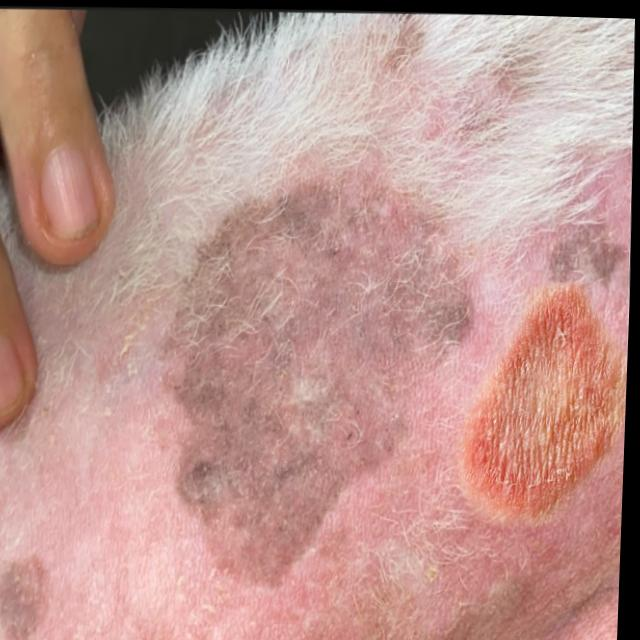ringworm: (454, 270, 631, 529)
